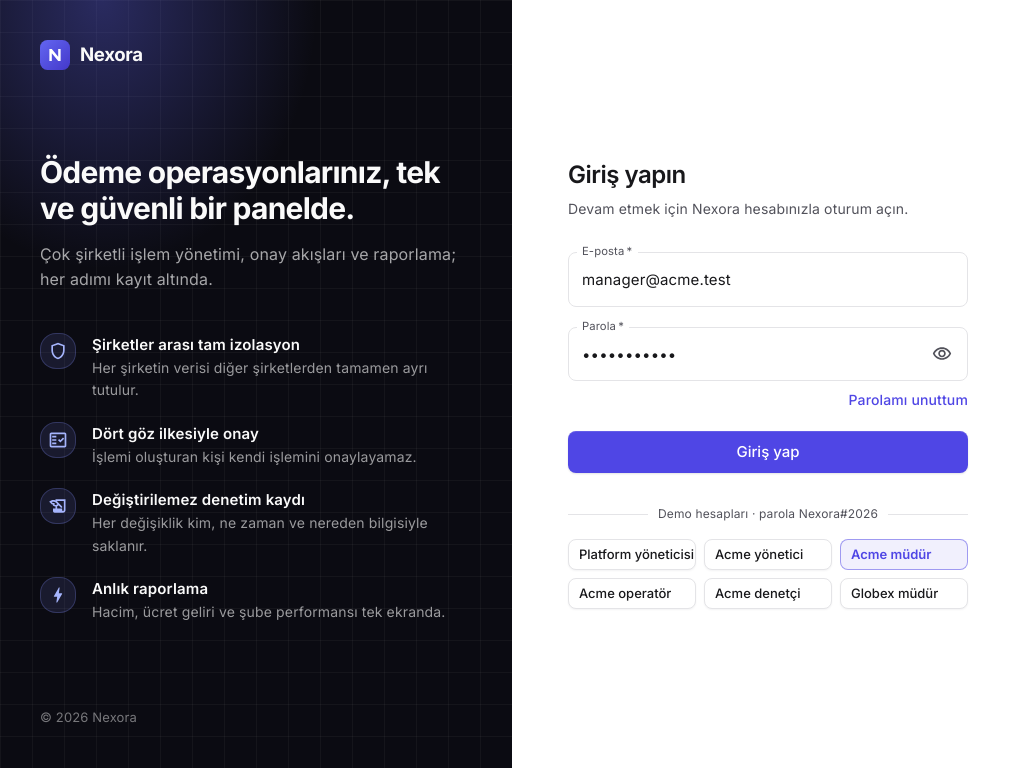
Test: sign-in › signs in with the chosen demo account and opens the app
What coordinates should you click on to do the following:
click the button "Acme operatör"
I would click on:
 (632, 593)
Its box is [568,578,696,609].
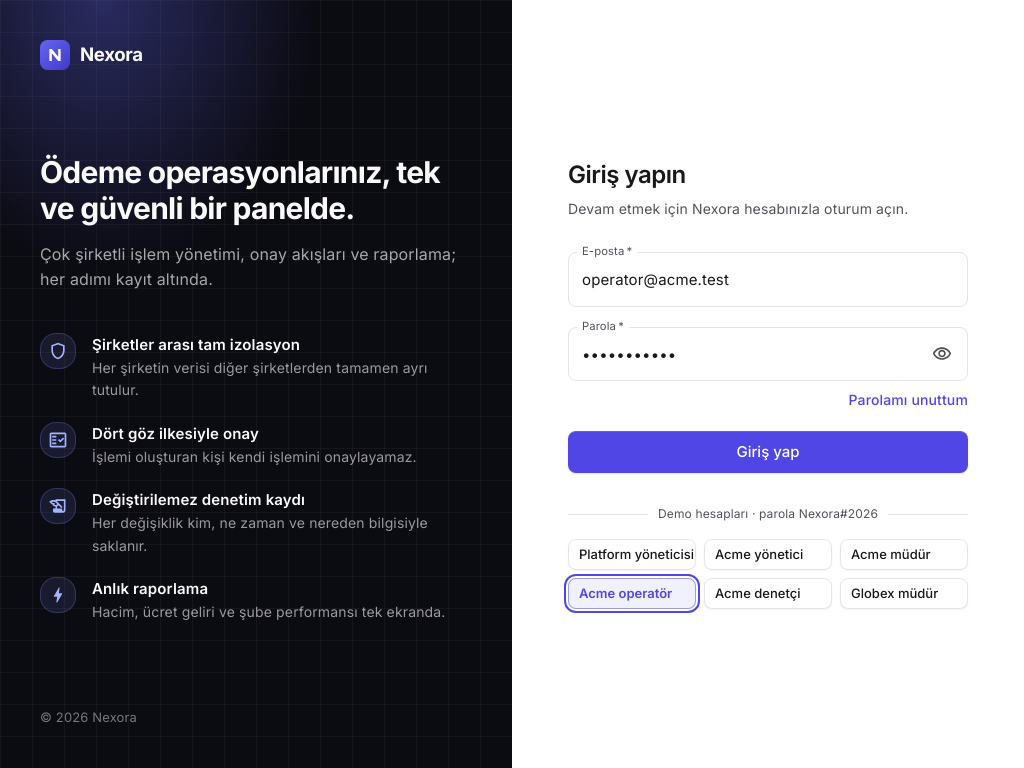
What coordinates should you click on to do the following:
click the button "Giriş yap"
I would click on:
 (768, 452)
Its box is [568,431,968,473].
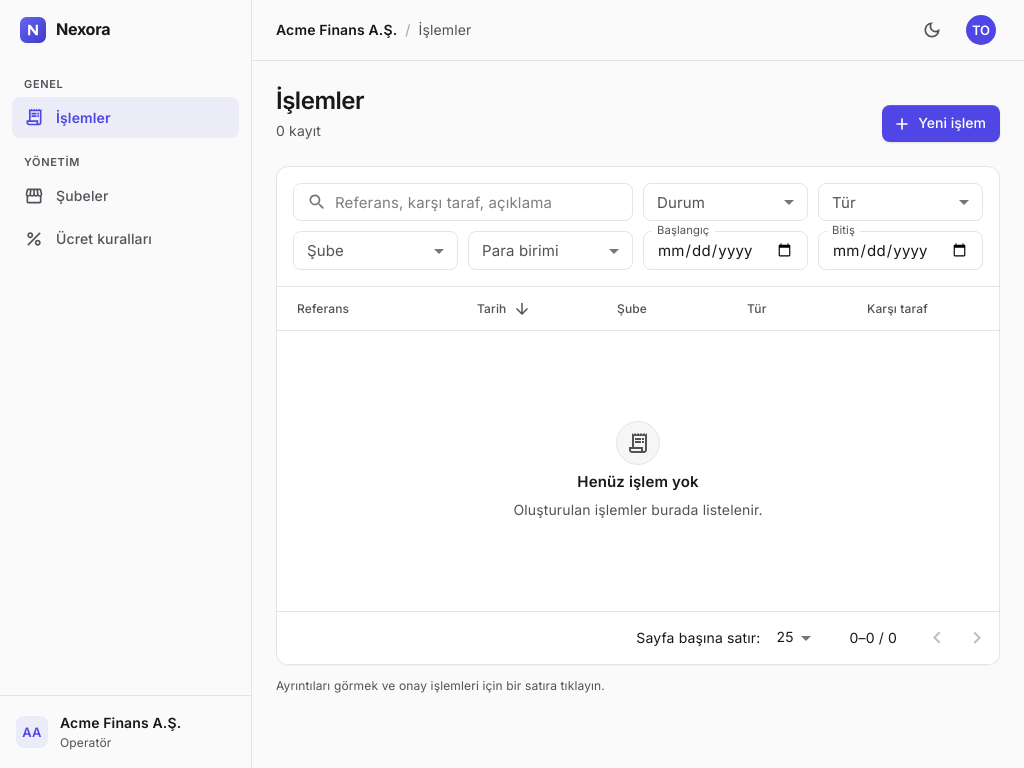
Now the heading "İşlemler" is shown, box [276,85,364,116]
